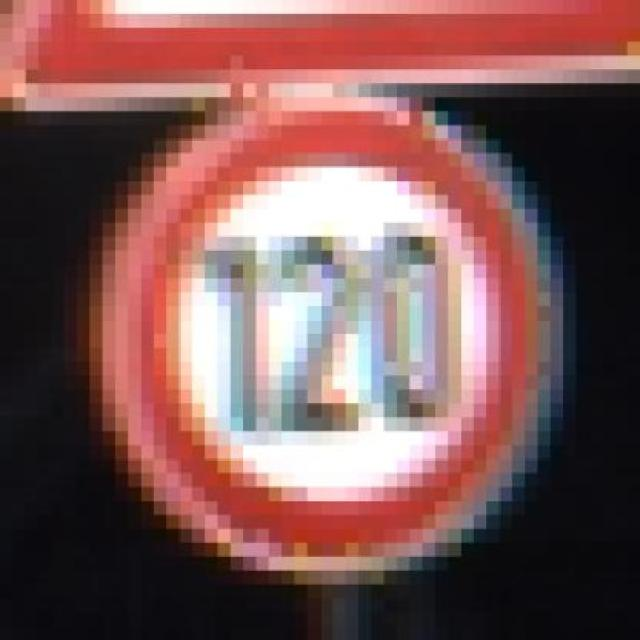forb_speed_over_120: (127, 103, 548, 572)
